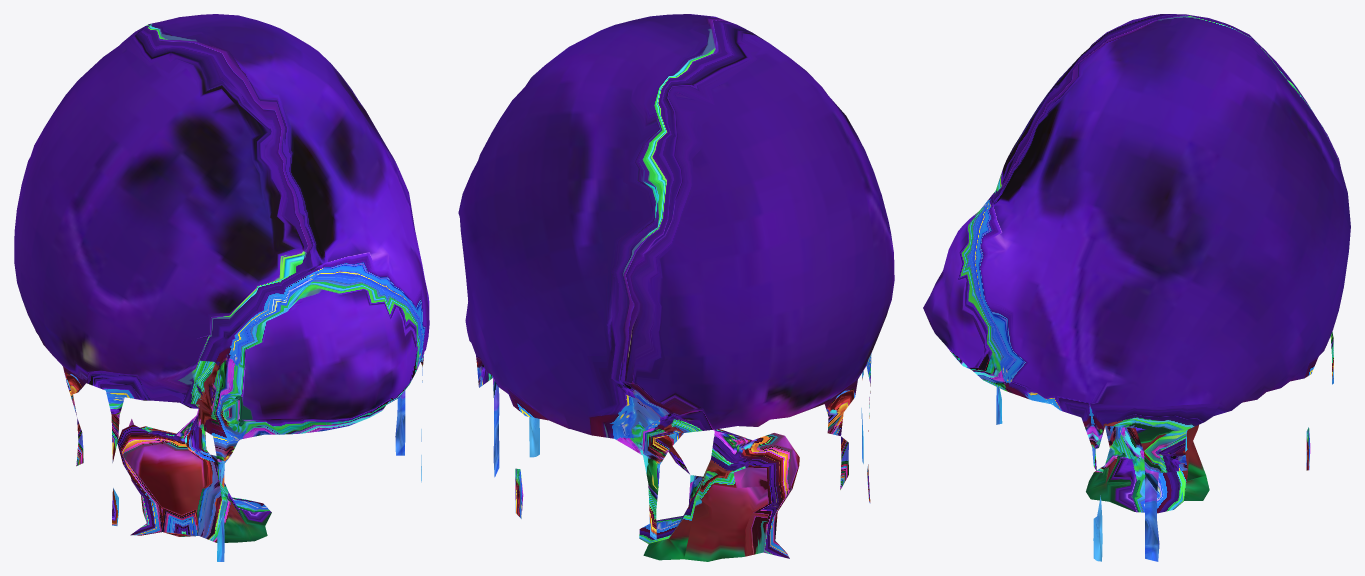
The picture shows the model from 3 angles, left to right: view 1: azimuth 30°, elevation 25°; view 2: azimuth 150°, elevation 25°; view 3: azimuth 270°, elevation 25°; orthographic projection. The views are drawn at different scales.
Parts seen in each view (by area): view 1: model.001; view 2: model.001; view 3: model.001.
Boxes of the visible parts, x1=… form: model.001: x1=14, y1=14, x2=429, y2=561; model.001: x1=458, y1=14, x2=894, y2=561; model.001: x1=923, y1=14, x2=1350, y2=561.
Bounding box in the file's own units: 0.9377 × 1.2 × 1.
Materials: 1 (1 with a texture image).
